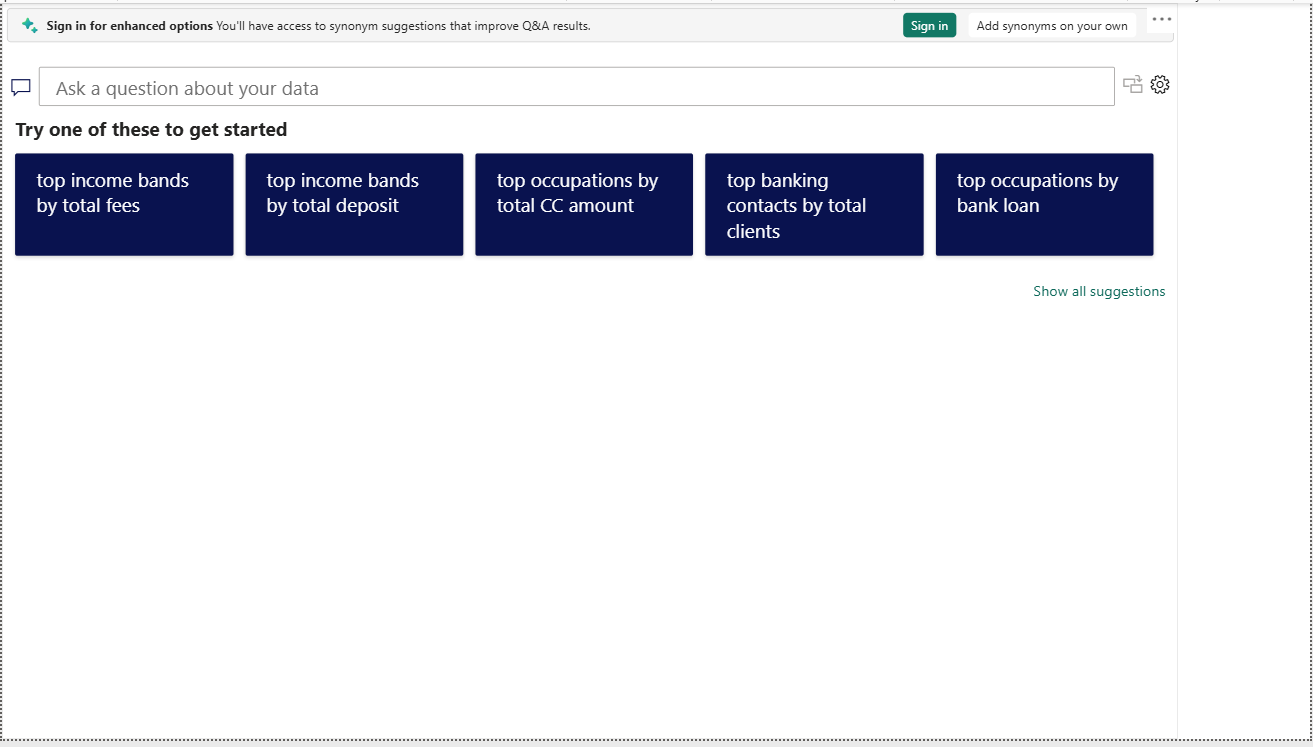

Layout of this report page (visuals, bound fields, positions):
{"tool":"powerbi","page":{"name":"Q&A","canvas":[1280,720],"ordinal":5},"visuals":[{"type":"qnaVisual","box":[0,0,1151.2,720],"z":0}]}

Visuals, with their boxes in screenshot pixels (x1, y1, x2, y2), scaled from the page's 1280x720 canvas onto the 1313x747 screenshot:
qnaVisual: bbox=[0, 0, 1181, 746]
